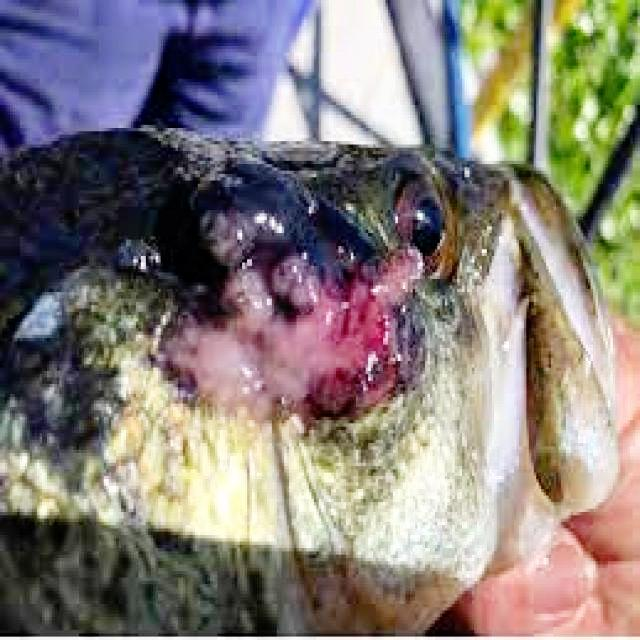Epizootic Ulcerative Syndrome -EUS-: (0, 125, 618, 634), (0, 126, 618, 634)
